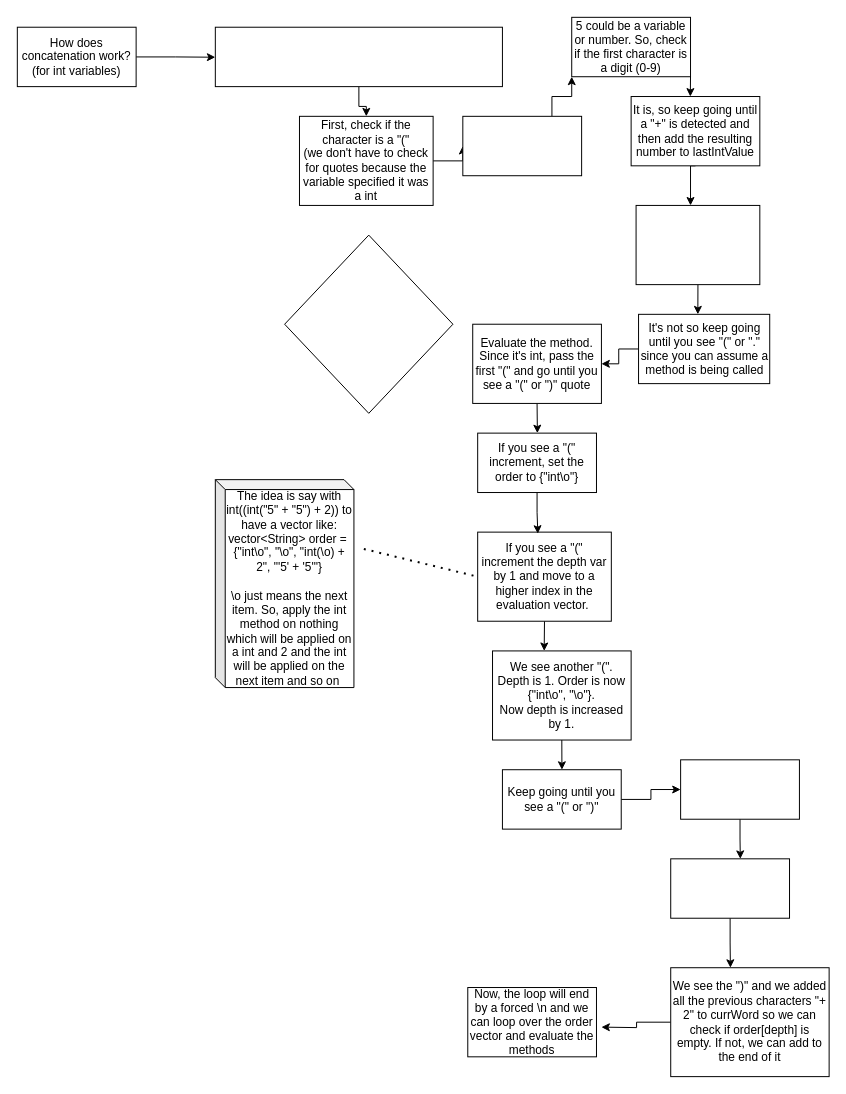
The diagram is 846 pixels wide and 1094 high, and some of its shapes have lost their labels. Here are the shapes that lost their labels. From the top down, the centre of each, then its label:
[358,56]: Example: x: int = 5 + int((int("5" + "5") + 2))
[522,145]: Since it's not, keep looping until there is a space.
[697,244]: Keep going until you see no spaces. Check if the first character is a digit
[368,323]: NOTE: Use expect/state variables to do all of this skipping character stuff
[739,789]: We see a ")" which means we decrease depth by 1
[730,888]: Keep going until a ")" or a forced break by \n which is handled seperately
